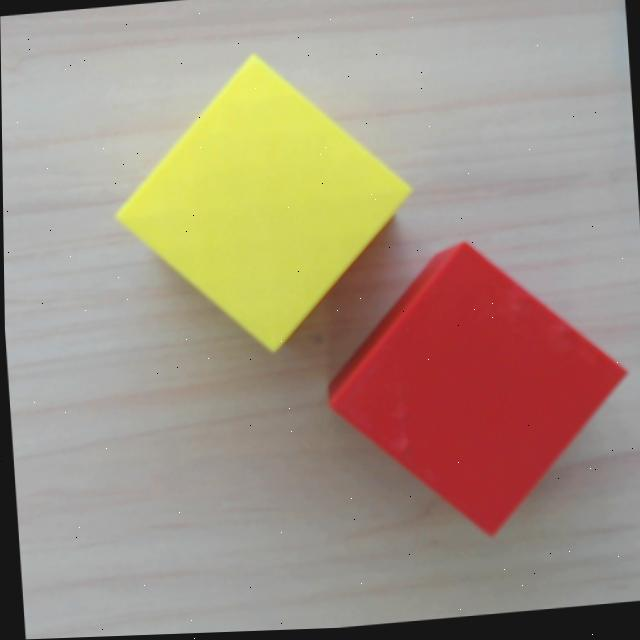Kubus-Kuning-505050: (112, 53, 415, 355)
Kubus-Merah-505050: (318, 232, 628, 540)
